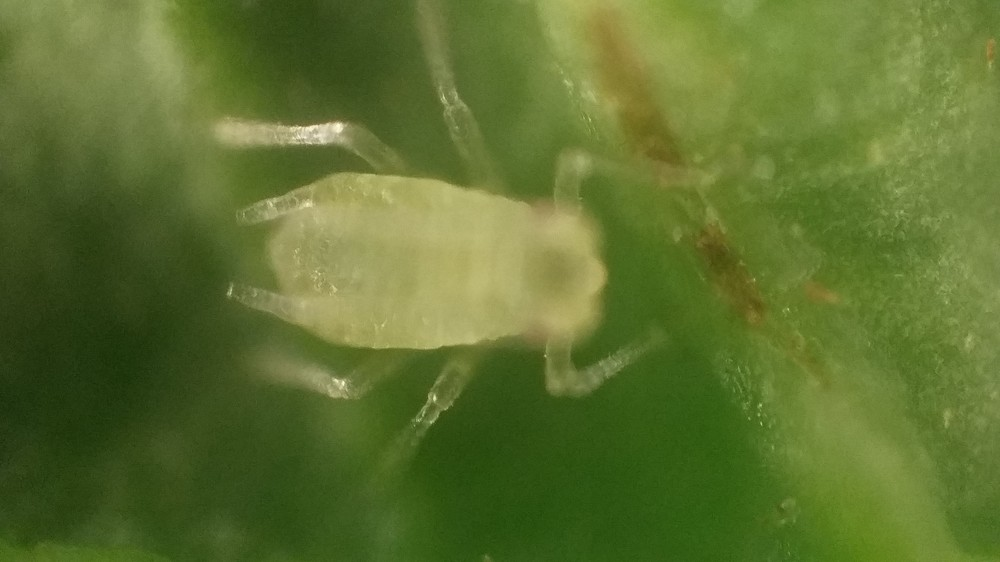Pulgon: (171, 52, 779, 486)
